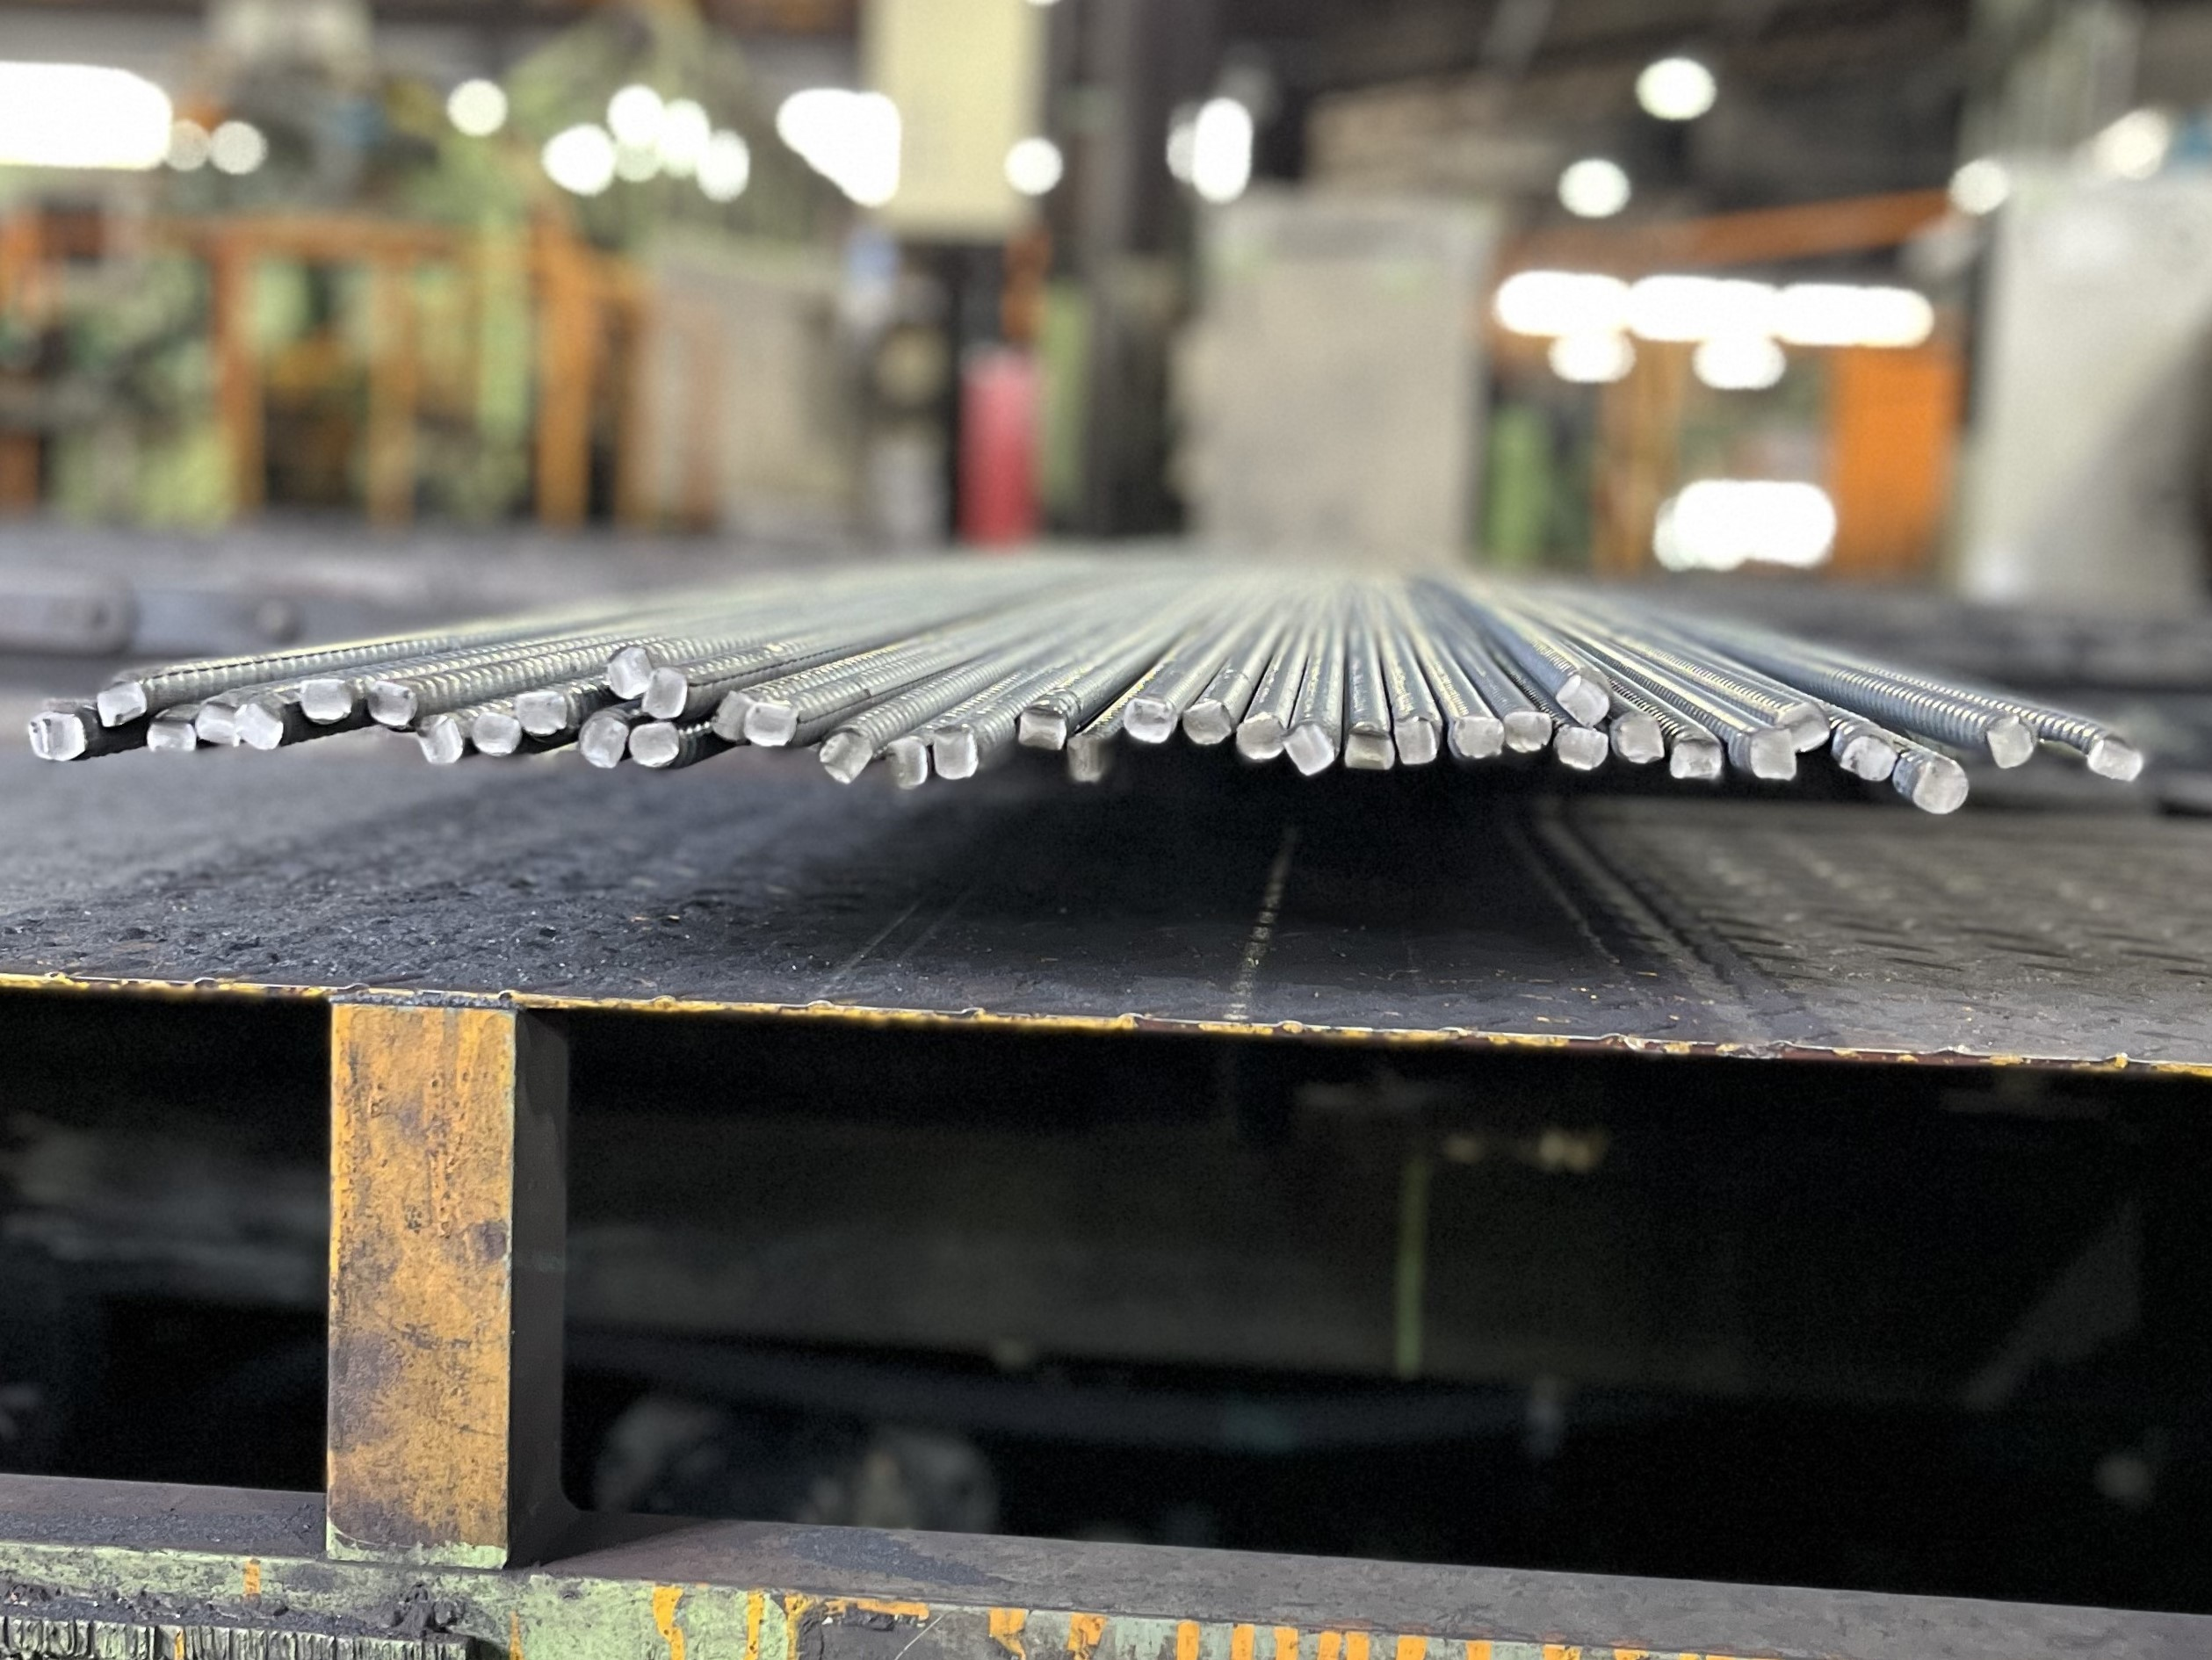rod: (1907, 750, 1971, 816), (1830, 731, 1903, 783), (2081, 731, 2149, 785), (816, 727, 876, 788), (1983, 710, 2043, 771), (1608, 708, 1666, 769), (1553, 673, 1612, 729), (1744, 725, 1800, 785), (1776, 697, 1832, 755), (1446, 711, 1507, 764), (604, 643, 658, 701), (363, 678, 422, 731), (930, 724, 982, 783), (1666, 732, 1729, 781), (232, 699, 286, 755), (638, 668, 693, 724), (1284, 720, 1336, 778), (740, 699, 799, 750), (1551, 724, 1612, 772), (1342, 725, 1399, 776), (1179, 697, 1232, 752), (513, 687, 569, 738), (297, 675, 354, 724), (38, 710, 89, 764), (94, 678, 148, 729), (884, 736, 933, 792), (1120, 697, 1176, 746), (1233, 710, 1284, 762), (1392, 717, 1444, 767), (143, 710, 197, 759), (415, 713, 464, 767), (469, 711, 523, 760), (628, 720, 682, 769), (707, 687, 752, 745), (576, 715, 628, 764), (1015, 703, 1068, 752), (1500, 708, 1553, 757), (194, 697, 239, 752), (1066, 734, 1108, 785)
